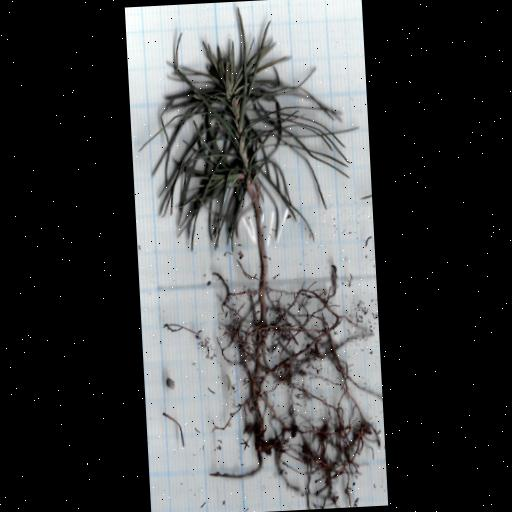flowerCedr: (155, 8, 352, 246), (286, 81, 352, 172)
rootCedr: (211, 265, 380, 509)
stemCedr: (248, 183, 267, 276)
